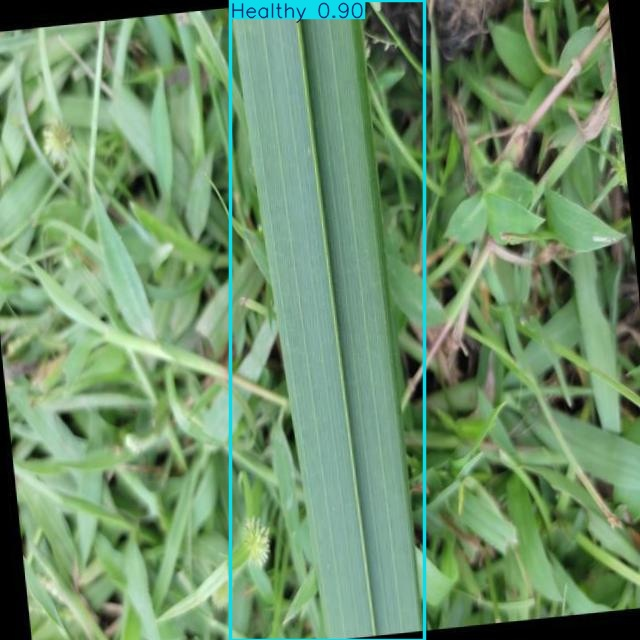Healthy: (230, 0, 425, 640)
